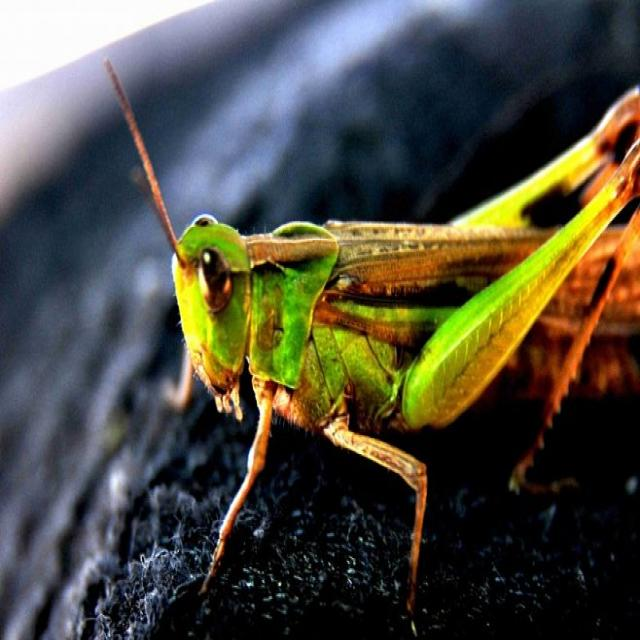ZhaMeng: (96, 187, 616, 492)
